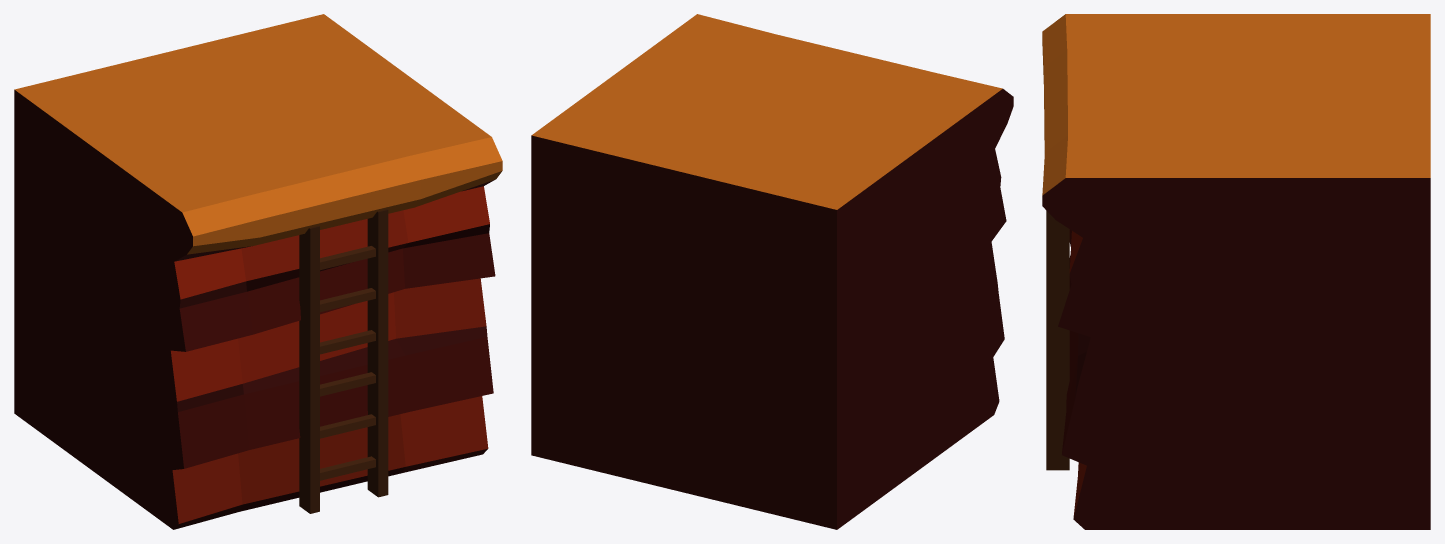
The model's file is Desert_Edge_08.fbx.
3 views of the same model, side by side, from view 1: azimuth 30°, elevation 25°; view 2: azimuth 150°, elevation 25°; view 3: azimuth 270°, elevation 25° (orthographic). The views are drawn at different scales.
Parts seen in each view (by area): view 1: Desert_Edge_08; view 2: Desert_Edge_08; view 3: Desert_Edge_08.
Boxes of the visible parts, left/top/right/bottom form: Desert_Edge_08: left=14, top=14, right=502, bottom=529; Desert_Edge_08: left=531, top=14, right=1013, bottom=529; Desert_Edge_08: left=1042, top=14, right=1430, bottom=529.
Bounding box in the file's own units: 1 × 1 × 1.
